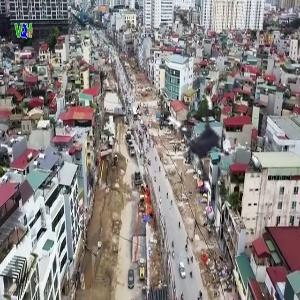drone: (146, 90, 248, 192)
